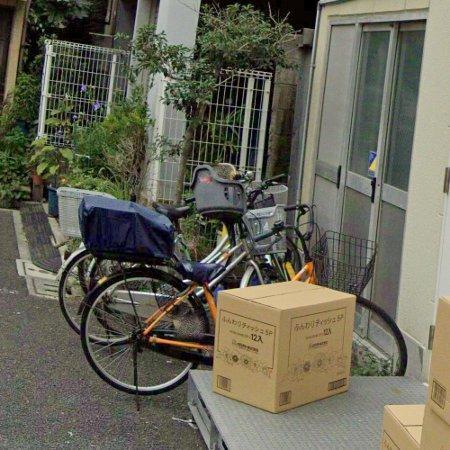bicycles: (79, 197, 226, 395), (296, 233, 409, 377), (159, 164, 288, 261), (57, 240, 128, 333), (57, 187, 112, 239)
